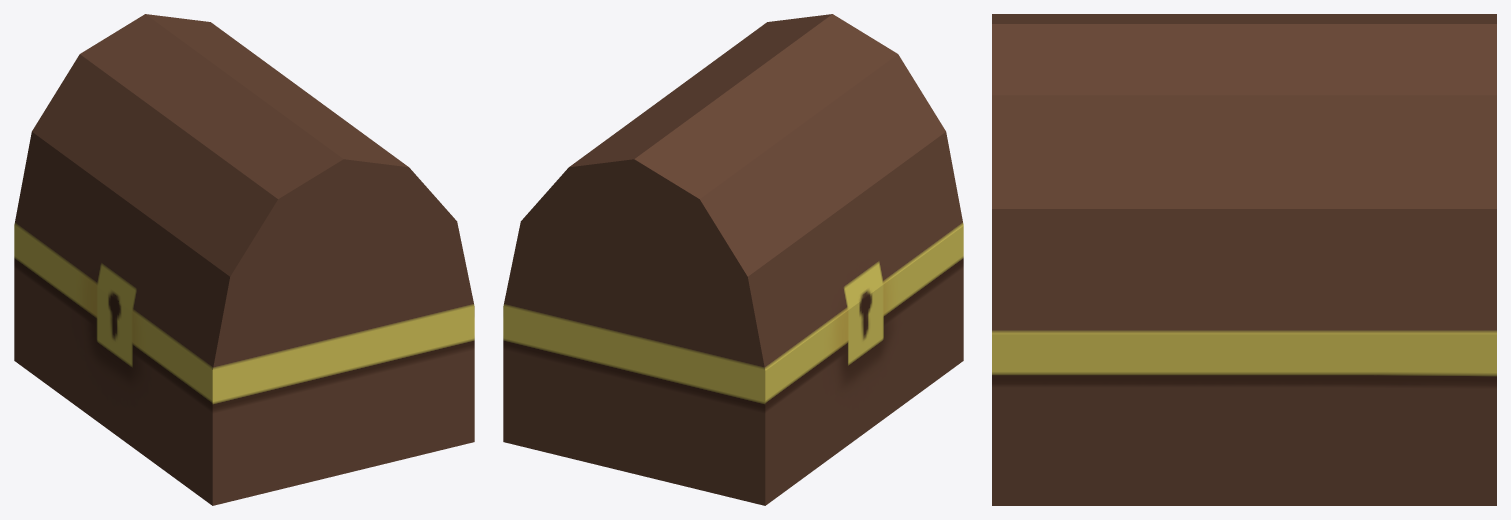
The model's file is Asset_Case.fbx.
3 renders of one model, left to right at view 1: azimuth 30°, elevation 25°; view 2: azimuth 150°, elevation 25°; view 3: azimuth 270°, elevation 25°, orthographic. The views are drawn at different scales.
Visible parts, largest first — view 1: pCylinder1; view 2: pCylinder1; view 3: pCylinder1.
Boxes of the visible parts, left/top/right/bottom form: pCylinder1: left=14, top=14, right=474, bottom=505; pCylinder1: left=503, top=14, right=963, bottom=505; pCylinder1: left=992, top=14, right=1496, bottom=505.
Size of the model in its own units: 1.53 by 1.75 by 2.
